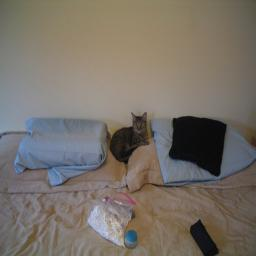catnose: (138, 126, 142, 132)
